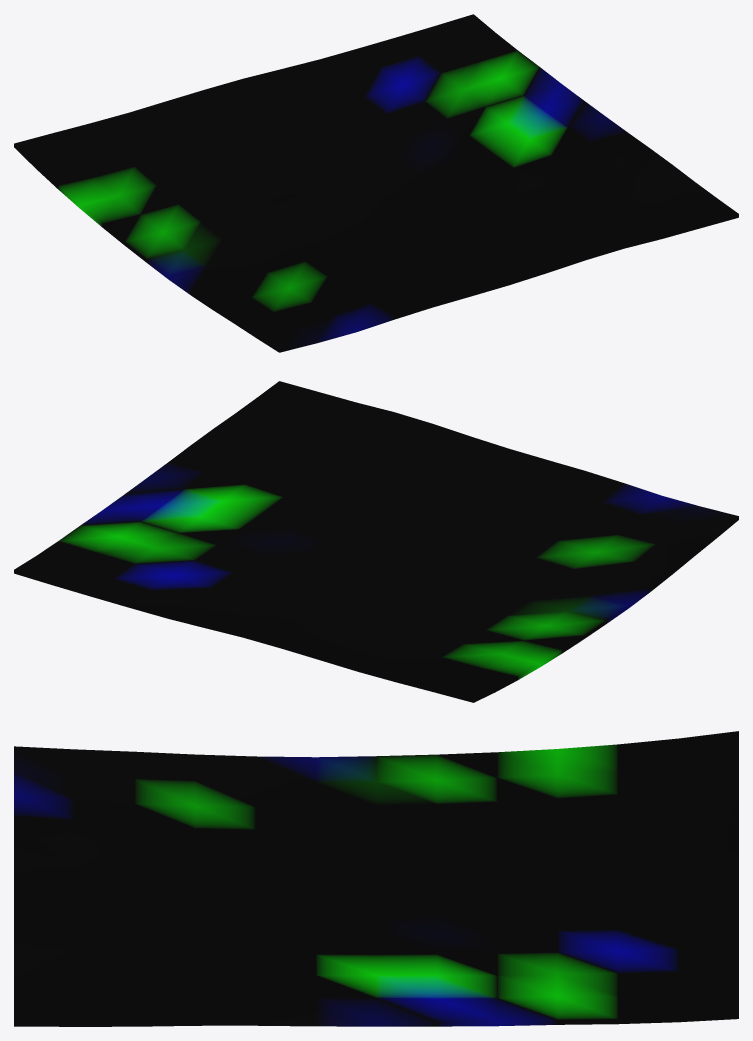
The model's file is coast_3_2.glb.
The picture shows the model from 3 angles, top to bottom: view 1: azimuth 30°, elevation 25°; view 2: azimuth 150°, elevation 25°; view 3: azimuth 270°, elevation 25°; orthographic projection. The views are drawn at different scales.
Parts seen in each view (by area): view 1: terrain; view 2: terrain; view 3: terrain.
Boxes of the visible parts, bbox=[...] form: terrain: bbox=[14, 14, 738, 352]; terrain: bbox=[14, 381, 738, 702]; terrain: bbox=[14, 731, 738, 1026].
Size of the model in its own units: 192 by 16.03 by 192.
